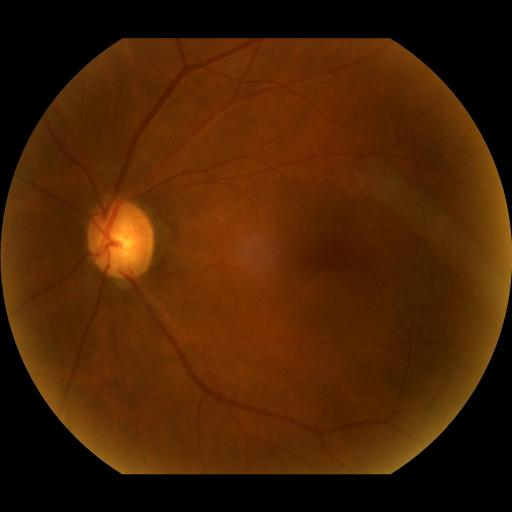Optic Cup: (106, 225, 139, 259)
Optic Disc: (88, 198, 154, 279)
